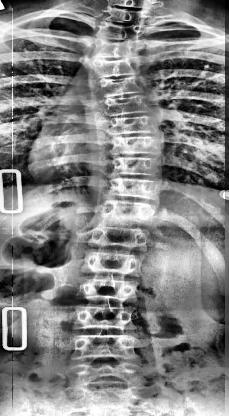Vertebrae: (72, 332, 142, 364), (72, 301, 136, 333), (108, 176, 172, 204), (90, 223, 152, 249), (104, 197, 162, 223), (82, 277, 138, 301), (86, 250, 140, 274), (106, 113, 160, 135), (116, 156, 166, 178), (102, 94, 154, 114), (92, 38, 139, 60), (97, 74, 147, 94), (118, 134, 166, 154), (100, 22, 146, 42), (95, 58, 141, 76)
